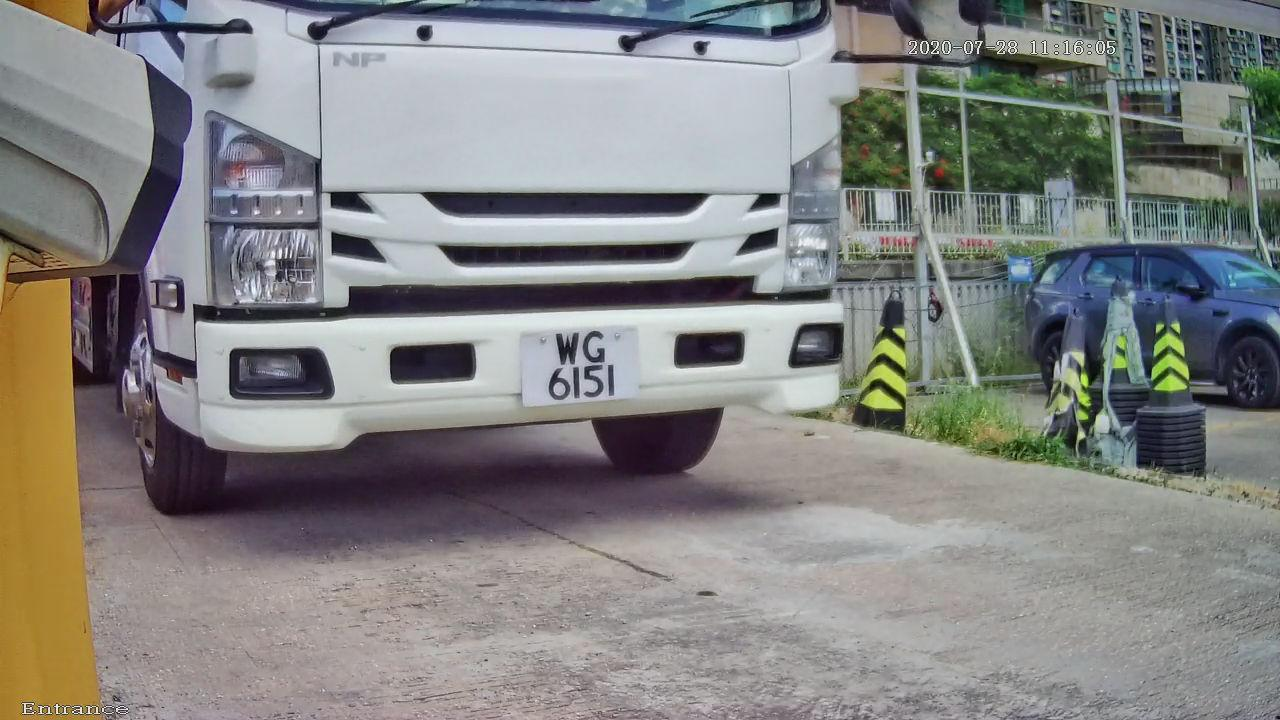vehicle_m: (104, 1, 919, 551)
